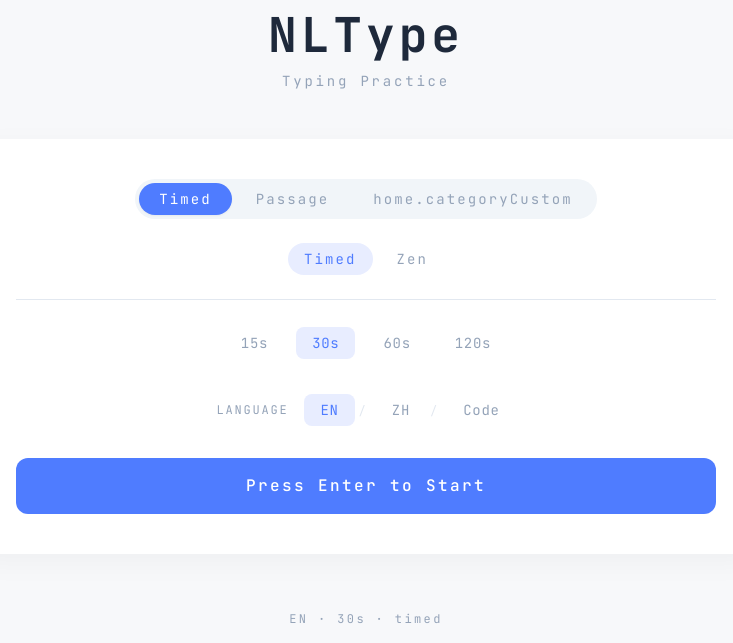
HomePage › shows word count options in words mode
Click the button "Passage".
click(293, 199)  # box [236,183,349,215]
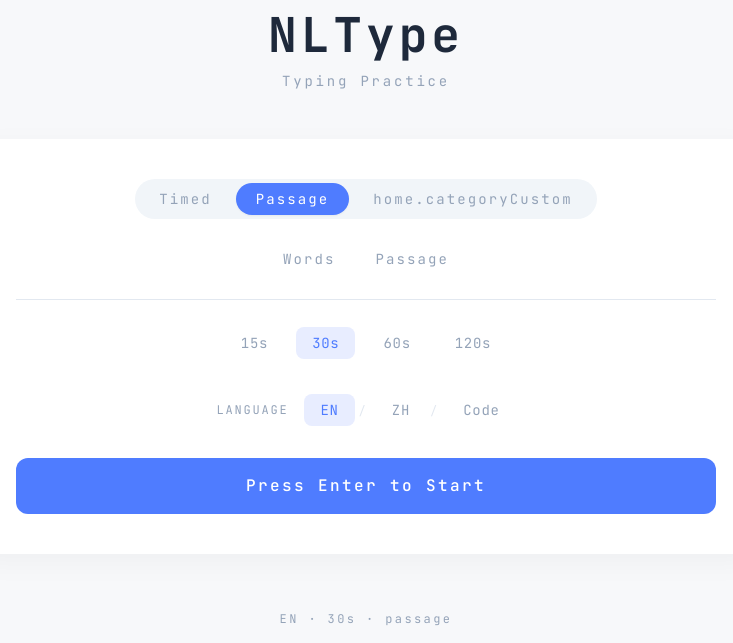
Click the button "Words".
click(309, 259)  # box [267,243,352,275]
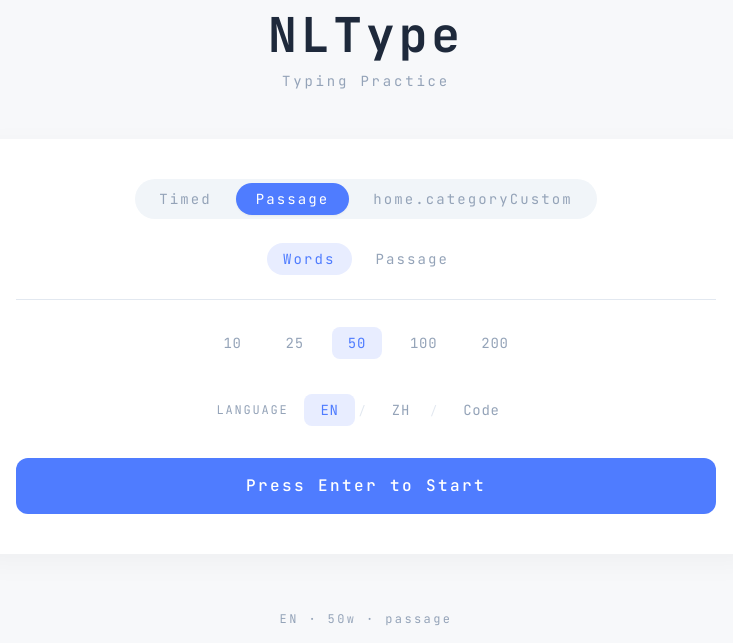
expect the button "10" is shown: met, box [207,327,258,359]
expect the button "25" is shown: met, box [270,327,320,359]
expect the button "50" is shown: met, box [332,327,382,359]
